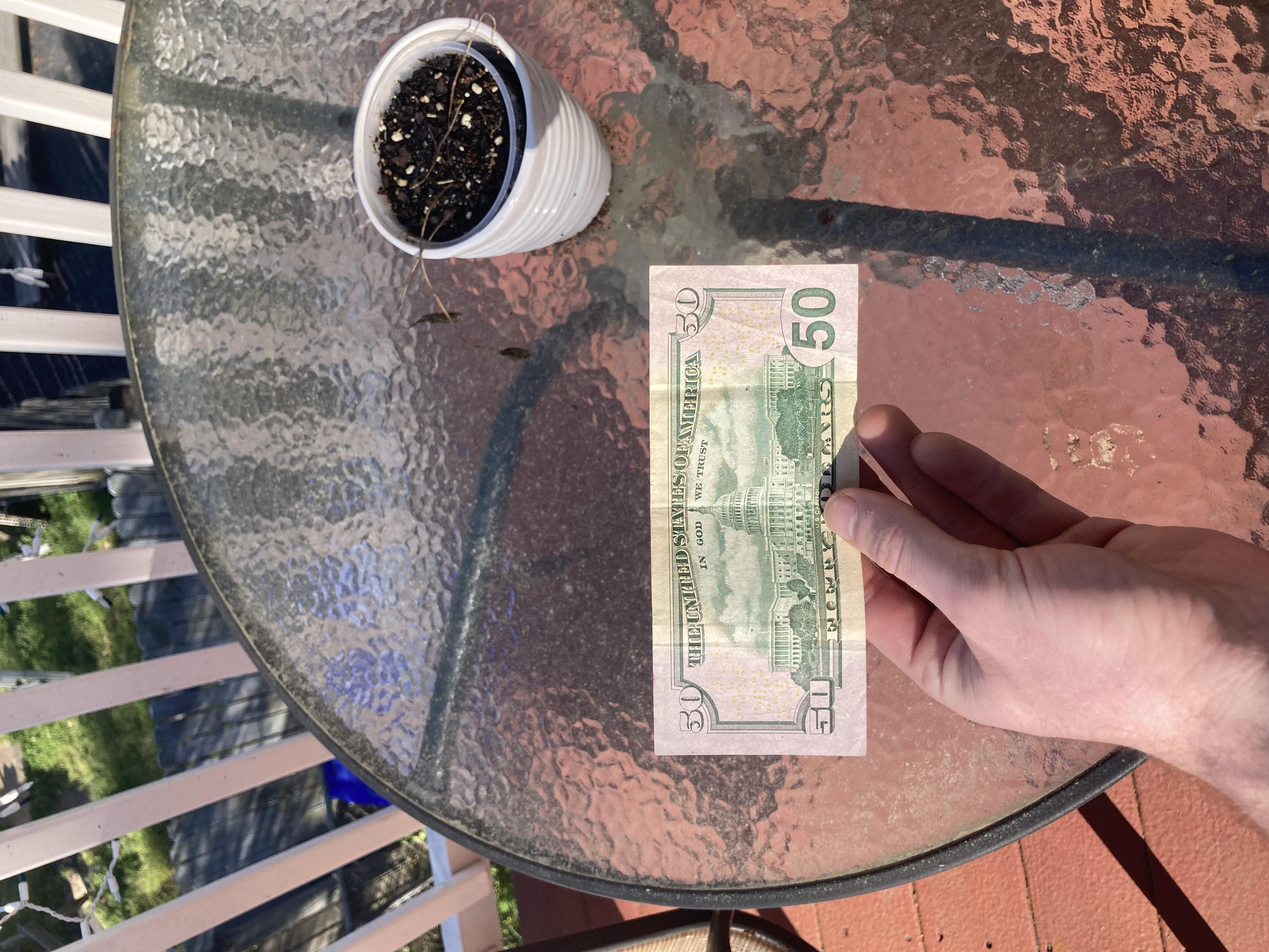fifty-back: (260, 489, 920, 647)
